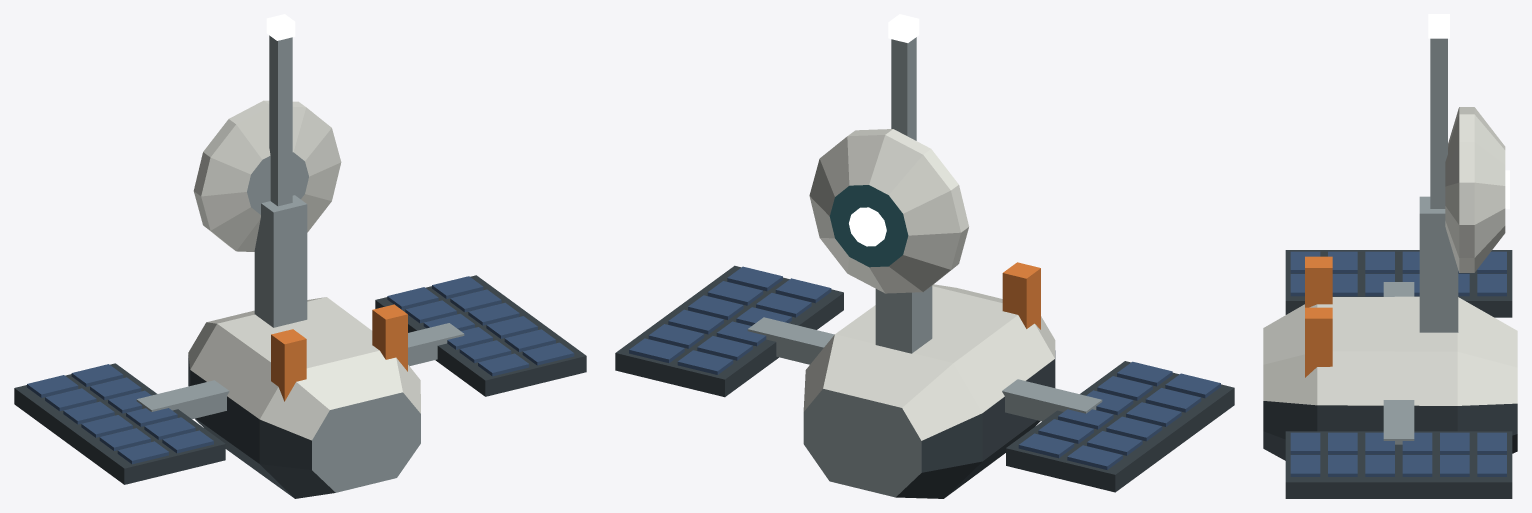
The model's file is relay.glb.
3 views of the same model, side by side, from view 1: azimuth 30°, elevation 25°; view 2: azimuth 150°, elevation 25°; view 3: azimuth 270°, elevation 25° (orthographic). The views are drawn at different scales.
Visible parts, largest first — view 1: relay; view 2: relay; view 3: relay.
Part boxes in pixels (x1,y1,x2,y2): relay: (14, 14, 586, 498); relay: (615, 14, 1234, 498); relay: (1263, 14, 1517, 498).
Bounding box in the file's own units: 3.56 × 3.13 × 1.65.
